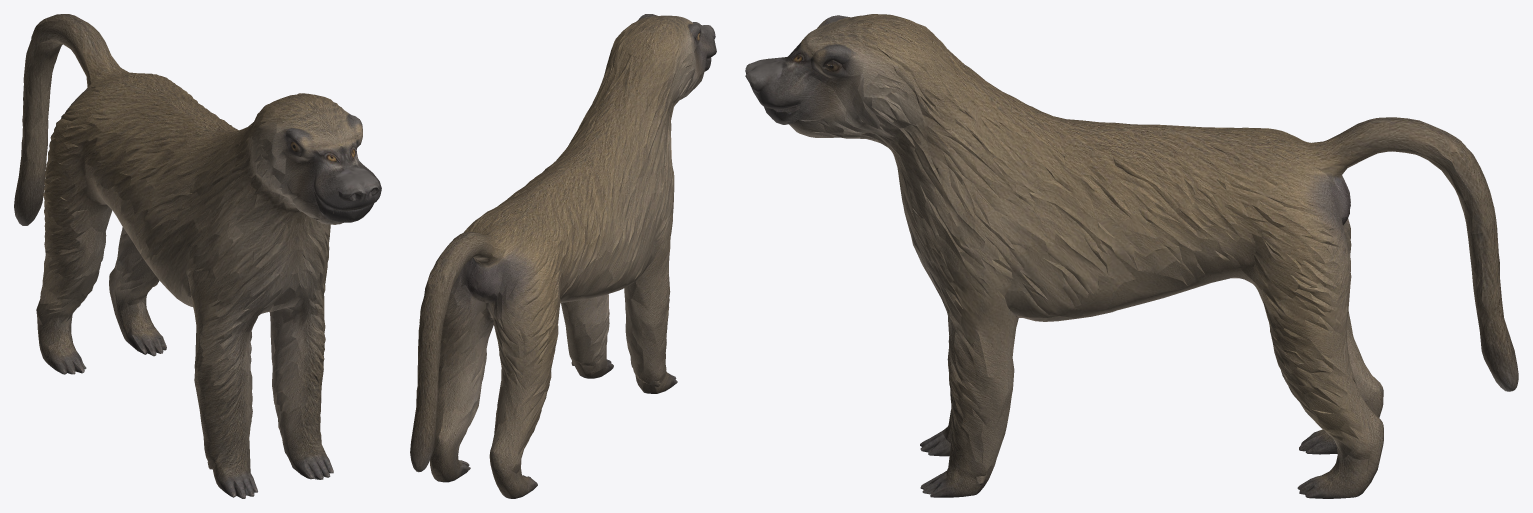
The model's file is olive-baboon.glb.
The picture shows the model from 3 angles, left to right: view 1: azimuth 30°, elevation 25°; view 2: azimuth 150°, elevation 25°; view 3: azimuth 270°, elevation 25°; orthographic projection. The views are drawn at different scales.
Bounding box in the file's own units: 0.4313 × 1.22 × 1.9.
1 material, 1 textured.
